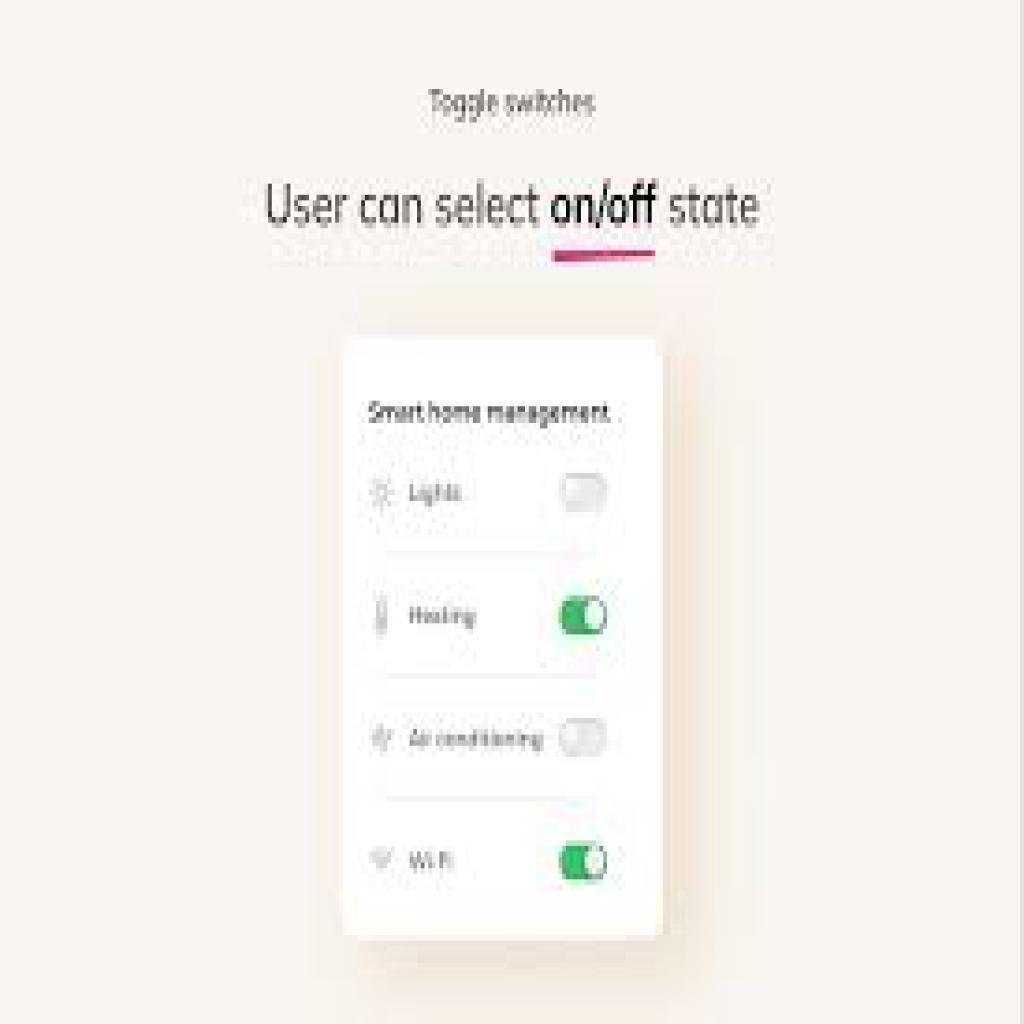icon: (368, 471, 398, 521), (367, 720, 401, 756), (367, 842, 399, 878), (371, 595, 396, 641)
label: (410, 722, 548, 759), (405, 602, 486, 635), (405, 478, 476, 512), (408, 848, 458, 878)
switch: (559, 718, 615, 760), (559, 841, 610, 887), (557, 595, 612, 637), (560, 471, 610, 516)
